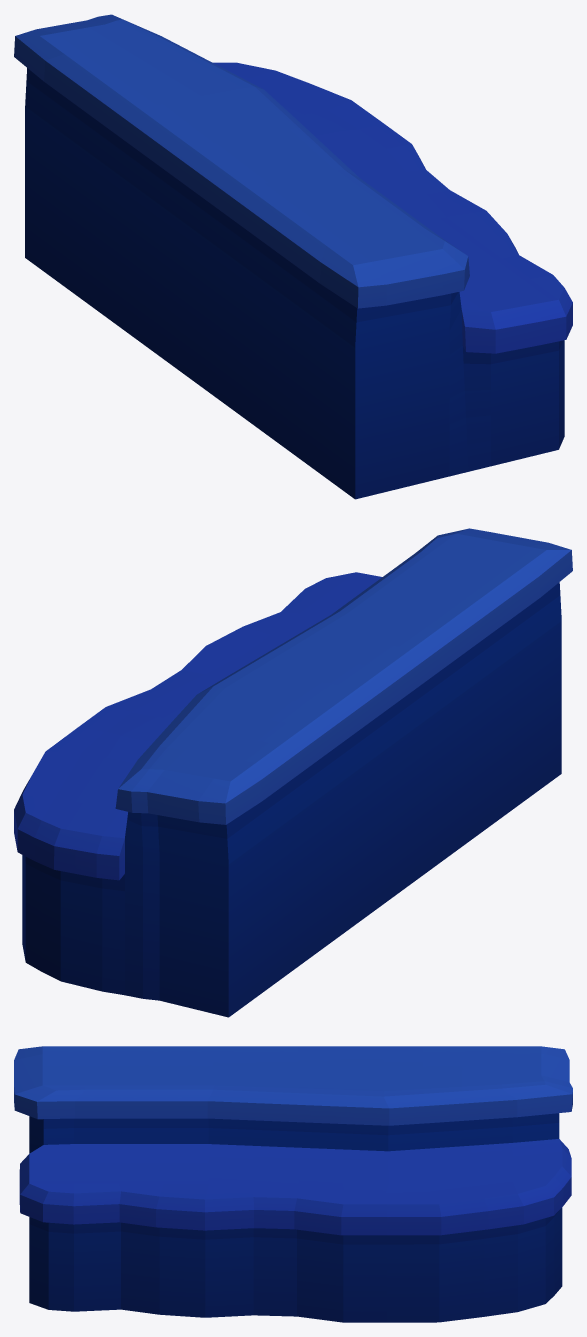
File: Chemin4.fbx
3 renders of one model, top to bottom at view 1: azimuth 30°, elevation 25°; view 2: azimuth 150°, elevation 25°; view 3: azimuth 270°, elevation 25°, orthographic. The views are drawn at different scales.
Parts seen in each view (by area): view 1: Cube.003; view 2: Cube.003; view 3: Cube.003.
Part boxes in pixels (bbox=[...]): Cube.003: bbox=[14, 14, 572, 499]; Cube.003: bbox=[14, 528, 572, 1017]; Cube.003: bbox=[14, 1046, 572, 1322].
Bounding box in the file's own units: 370 × 299 × 841.
